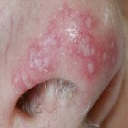Herpes Virus: (30, 27, 115, 76)
